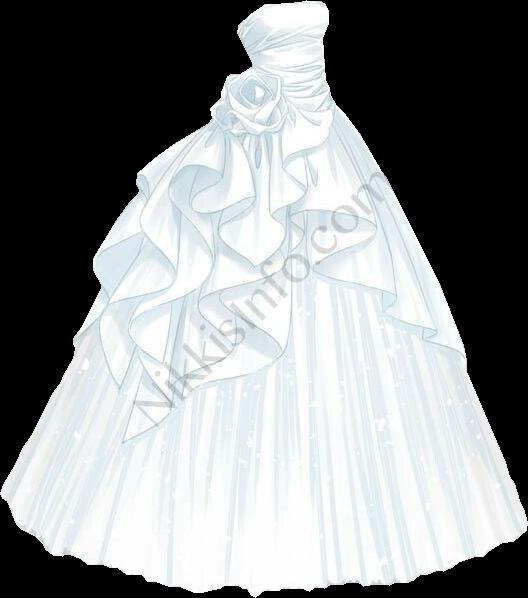Bodice: (237, 1, 337, 134)
Hemline: (0, 489, 527, 597)
Neckline: (234, 0, 325, 34)
Skirt: (1, 67, 526, 596)
